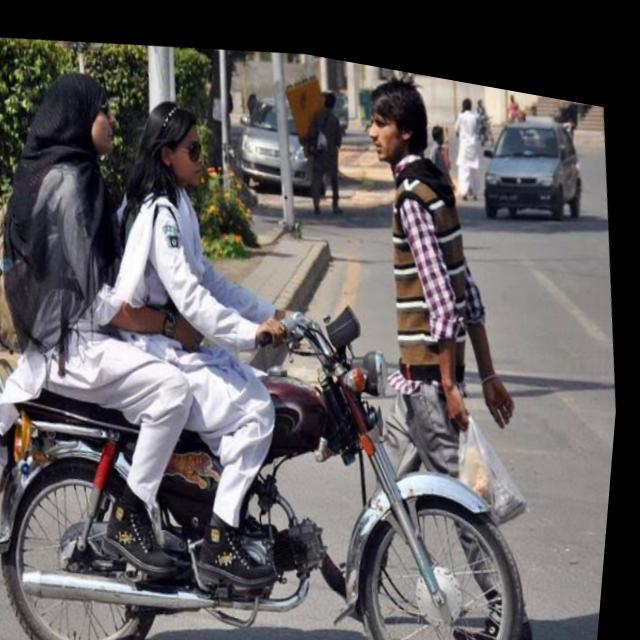Nonhelmet: (33, 63, 117, 159), (356, 74, 435, 172), (136, 97, 210, 193)
